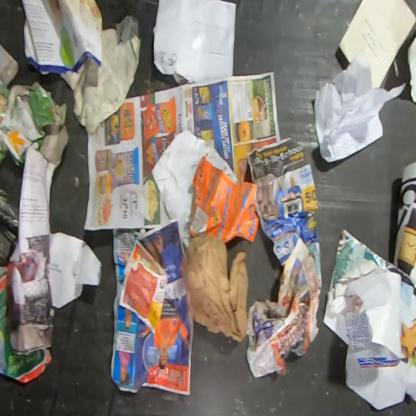metal: (14, 88, 33, 106)
